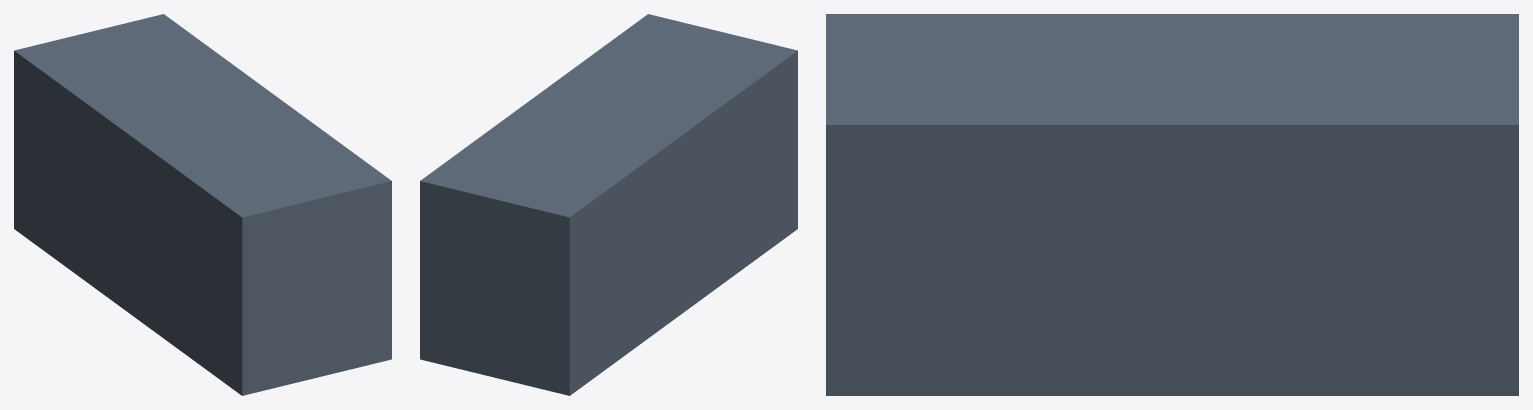
File: server_rack.glb
3 renders of one model, left to right at view 1: azimuth 30°, elevation 25°; view 2: azimuth 150°, elevation 25°; view 3: azimuth 270°, elevation 25°, orthographic. The views are drawn at different scales.
Visible parts, largest first — view 1: rack_0; view 2: rack_0; view 3: rack_0.
Boxes of the visible parts, <box> form: rack_0: <box>14,14,391,395</box>; rack_0: <box>420,14,797,395</box>; rack_0: <box>826,14,1518,395</box>.
Size of the model in its own units: 0.72 by 0.858 by 1.9.
